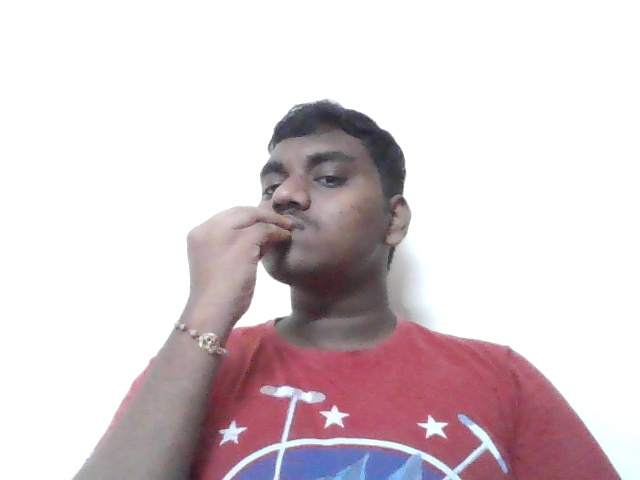Eat: (175, 202, 311, 348)
